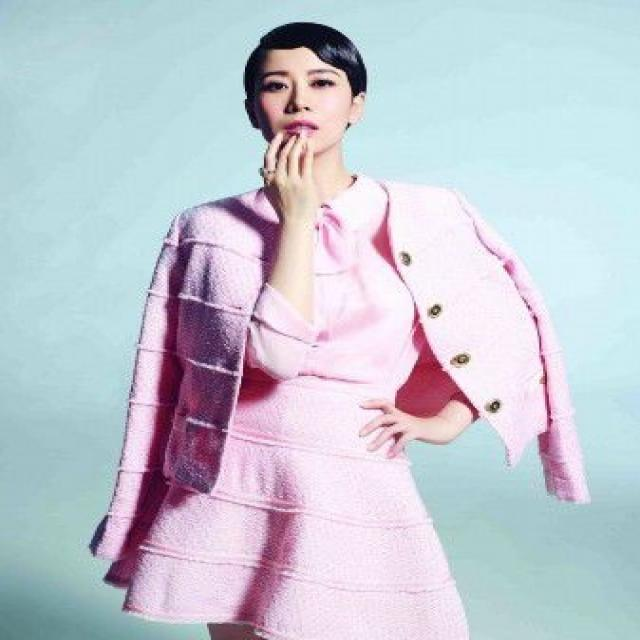nomask: (254, 43, 350, 155)
